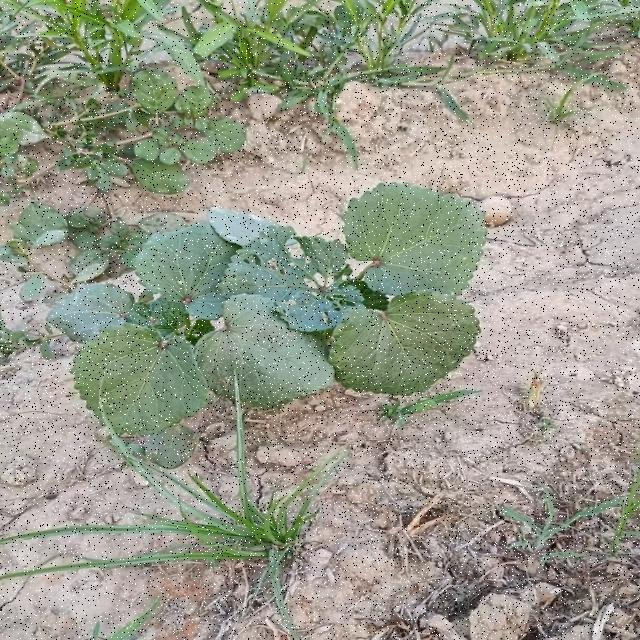plant: (48, 184, 485, 467)
